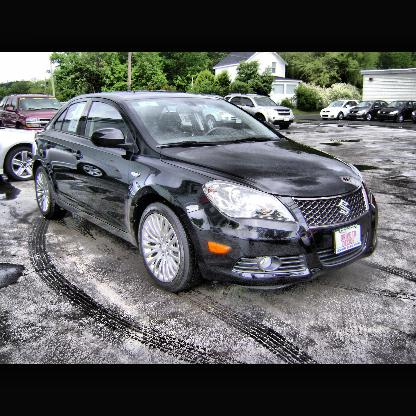Suzuki Kizashi Sedan 2012: (34, 92, 376, 295)
